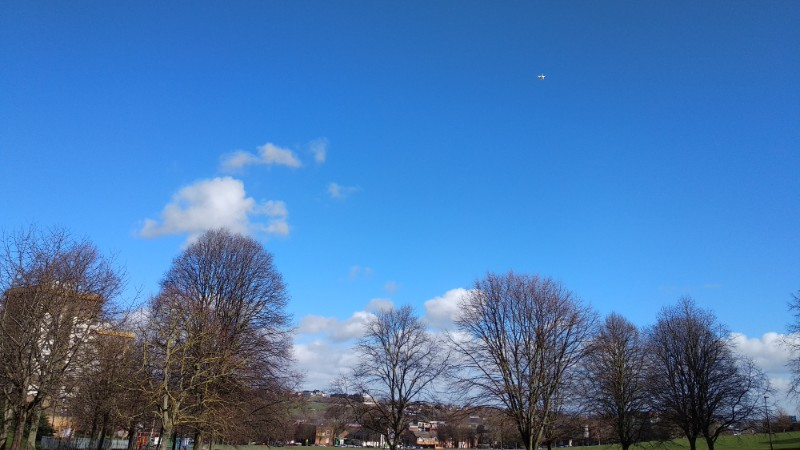drone: (535, 72, 548, 82)
